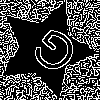G: (21, 24, 83, 85)
